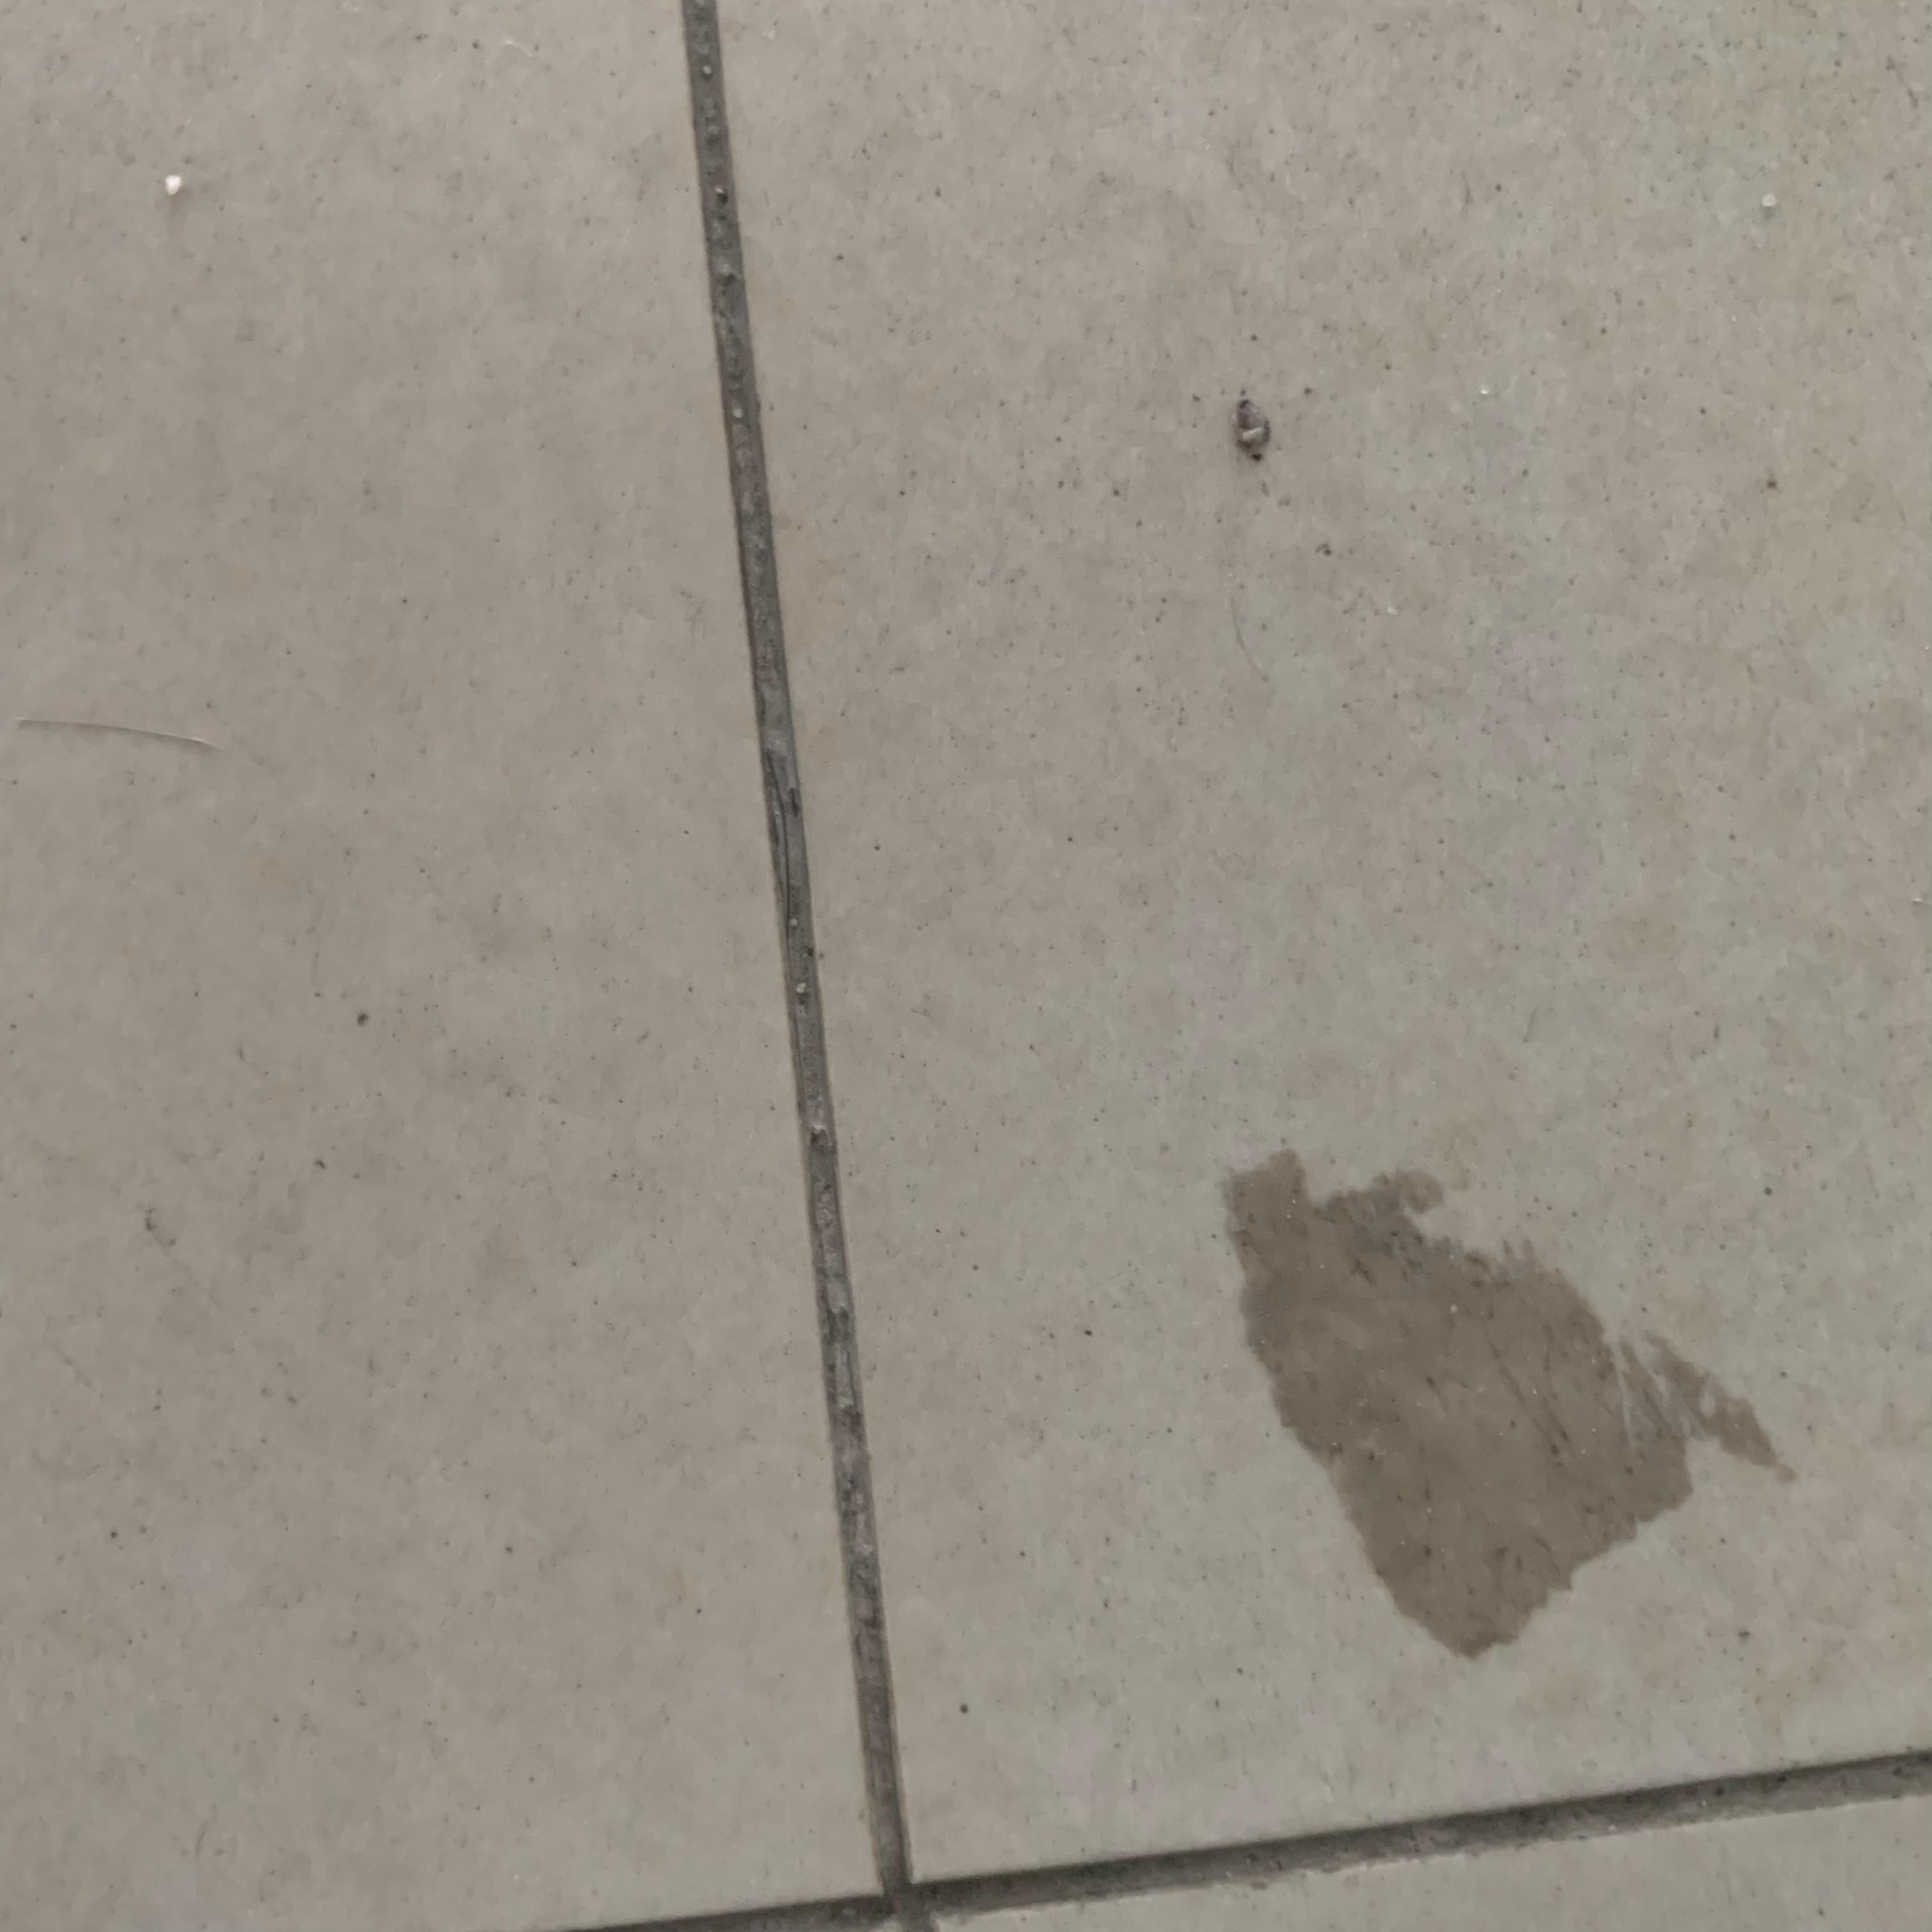grey spot: (1224, 1152, 1799, 1663)
